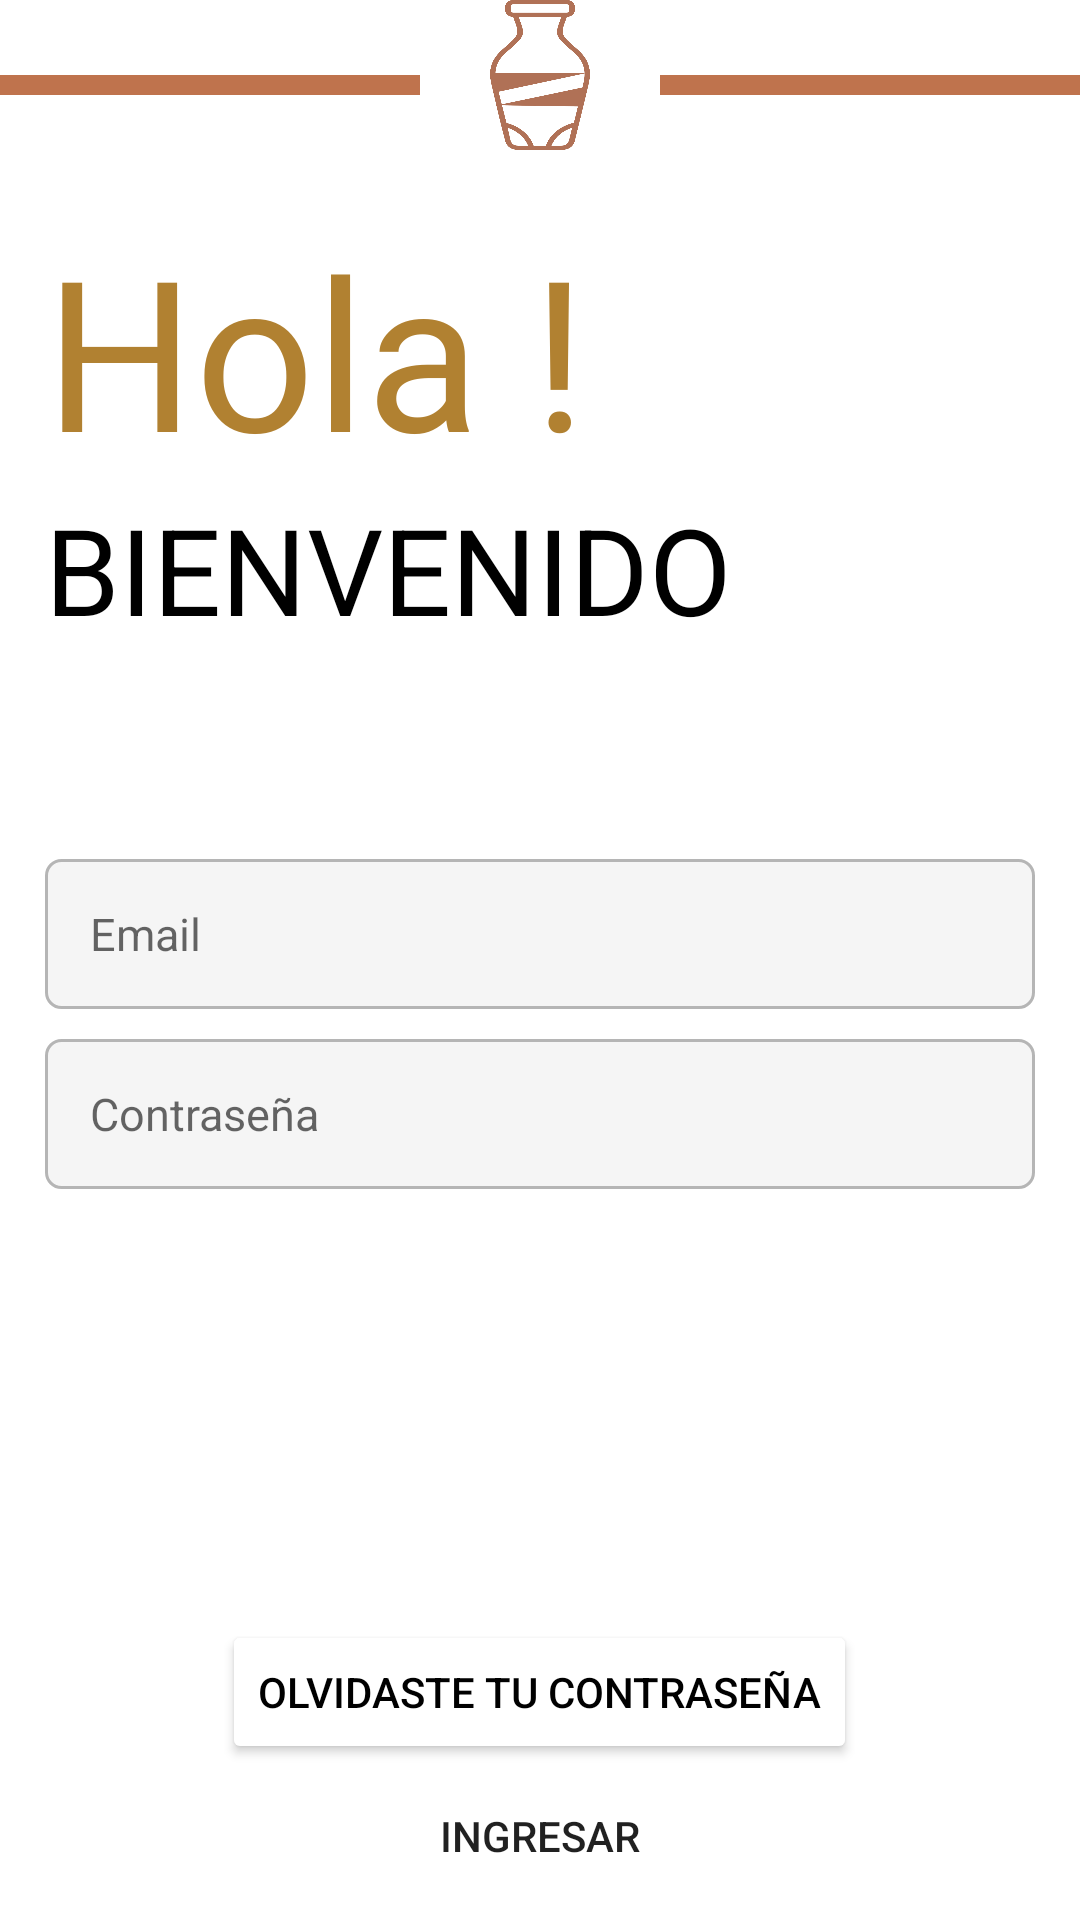

Icons on this 1080px x 1920px Android screen, each with the point to tap as [x,y]:
ceramica: [540,75]
